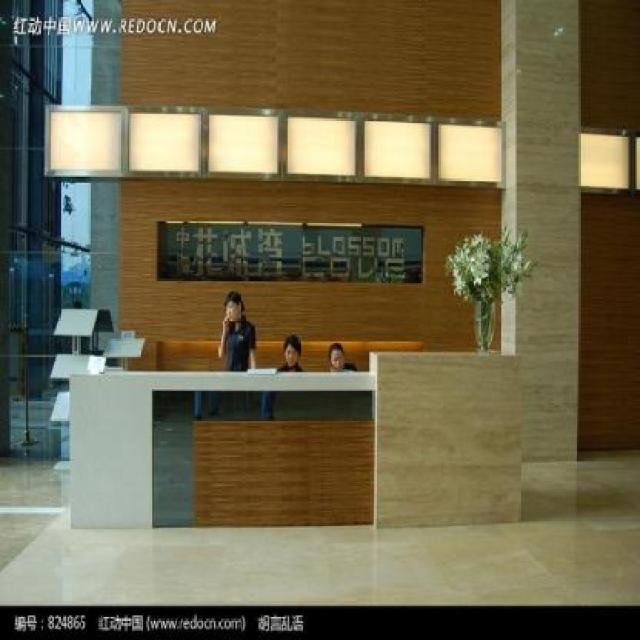frontdesk: (63, 334, 528, 539)
